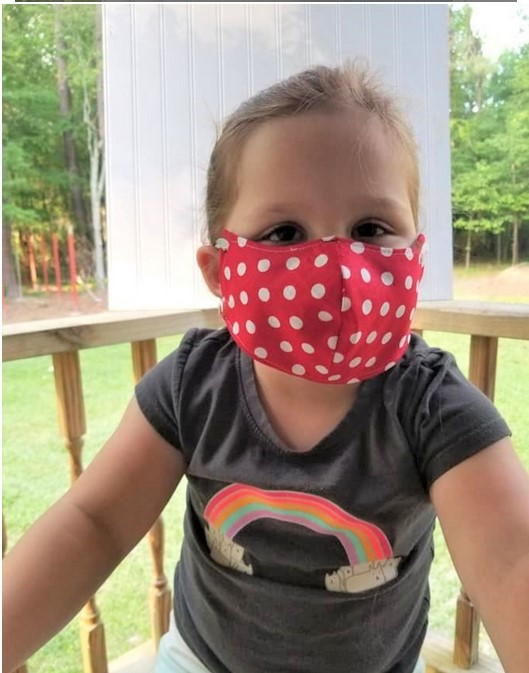face_with_mask: (197, 73, 431, 385)
